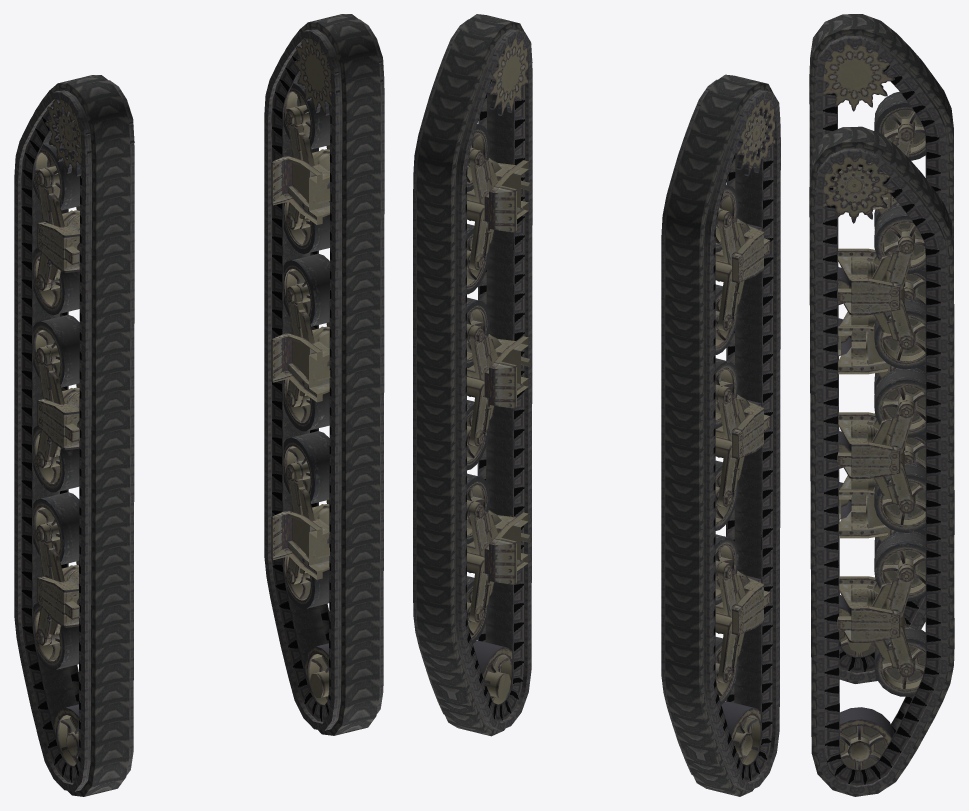
Rendered from Chassis.glb.
The picture shows the model from 3 angles, left to right: view 1: azimuth 30°, elevation 25°; view 2: azimuth 150°, elevation 25°; view 3: azimuth 270°, elevation 25°; orthographic projection. The views are drawn at different scales.
Parts seen in each view (by area): view 1: set_0_group_0, set_1_group_0, set_3_group_0, set_5_group_0, set_4_group_0, set_2_group_0; view 2: set_0_group_0, set_1_group_0, set_3_group_0, set_5_group_0, set_2_group_0, set_4_group_0; view 3: set_1_group_0, set_3_group_0, set_5_group_0, set_0_group_0, set_2_group_0, set_4_group_0.
Boxes of the visible parts, <box> form: set_0_group_0: <box>14,75,134,796</box>; set_1_group_0: <box>264,14,384,735</box>; set_3_group_0: <box>271,29,383,704</box>; set_5_group_0: <box>33,90,134,765</box>; set_4_group_0: <box>35,169,79,227</box>; set_2_group_0: <box>286,108,329,175</box>; set_0_group_0: <box>661,74,780,796</box>; set_1_group_0: <box>413,14,532,736</box>; set_3_group_0: <box>450,28,532,704</box>; set_5_group_0: <box>697,88,775,764</box>; set_2_group_0: <box>468,149,497,203</box>; set_4_group_0: <box>717,210,745,264</box>; set_1_group_0: <box>809,126,954,796</box>; set_3_group_0: <box>814,149,925,769</box>; set_5_group_0: <box>814,37,925,656</box>; set_0_group_0: <box>809,14,954,683</box>; set_2_group_0: <box>871,237,914,290</box>; set_4_group_0: <box>892,124,914,157</box>.
Bounding box in the file's own units: 2.57 × 5.73 × 1.15.
6 materials, 6 textured.
